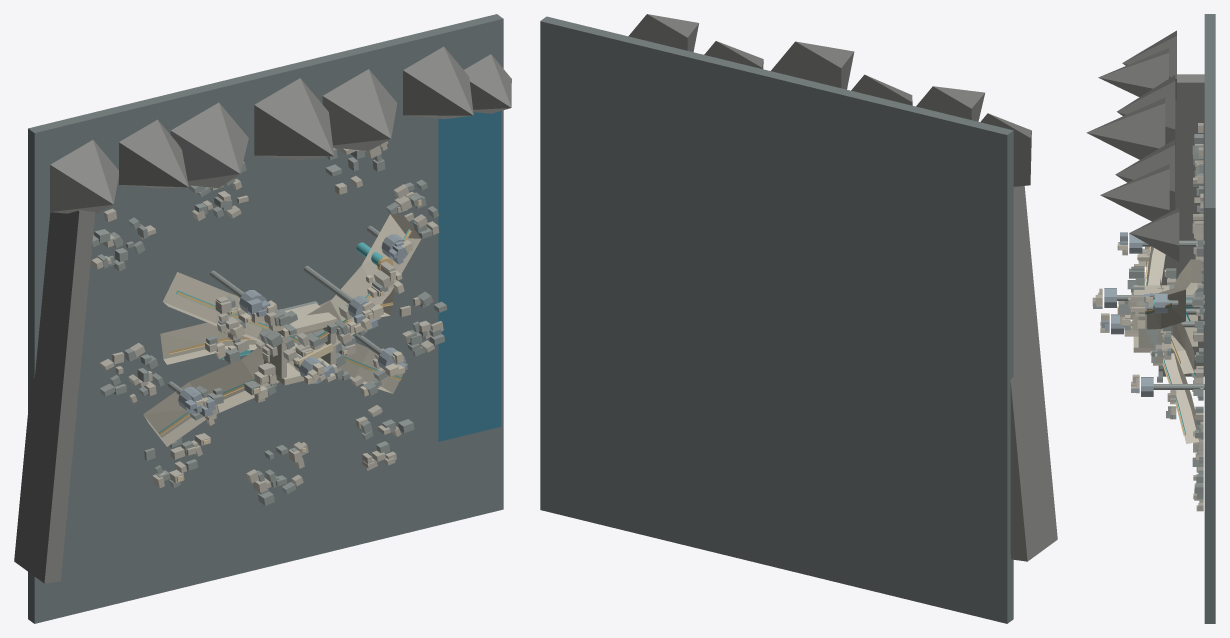
The model's file is A1-Civic-Weave.glb.
The picture shows the model from 3 angles, left to right: view 1: azimuth 30°, elevation 25°; view 2: azimuth 150°, elevation 25°; view 3: azimuth 270°, elevation 25°; orthographic projection. The views are drawn at different scales.
Visible parts, largest first — view 1: 10km_study_terrain, east_artificial_inland_sea, west_cliff_face, inhabited_hydraulic_spine_1, north_mountain_peak_4, north_mountain_peak_3, north_mountain_peak_5, north_mountain_peak_6, north_mountain_peak_1, north_mountain_peak_2, inhabited_hydraulic_spine_2, north_mountain_peak_7 (+2 smaller); view 2: 10km_study_terrain, west_cliff_face, north_mountain_peak_4, north_mountain_peak_6, north_mountain_peak_2, north_mountain_peak_1, north_mountain_peak_3, north_mountain_peak_5; view 3: 10km_study_terrain, west_cliff_face, north_mountain_peak_4, north_mountain_peak_6, inhabited_hydraulic_spine_2, north_mountain_peak_2, inhabited_hydraulic_spine_3, north_mountain_peak_7, north_mountain_peak_5, inhabited_hydraulic_spine_1, north_mountain_peak_3, north_mountain_peak_1 (+8 smaller).
Boxes of the visible parts, <box> form: 10km_study_terrain: <box>28,14,503,623</box>; east_artificial_inland_sea: <box>438,111,501,441</box>; west_cliff_face: <box>14,210,95,583</box>; inhabited_hydraulic_spine_1: <box>143,214,421,446</box>; north_mountain_peak_4: <box>254,78,333,159</box>; north_mountain_peak_3: <box>170,102,248,188</box>; north_mountain_peak_5: <box>322,69,397,150</box>; north_mountain_peak_6: <box>403,46,473,119</box>; north_mountain_peak_1: <box>50,140,118,214</box>; north_mountain_peak_2: <box>119,119,188,188</box>; inhabited_hydraulic_spine_2: <box>163,272,407,393</box>; north_mountain_peak_7: <box>464,54,511,113</box>; 10km_study_terrain: <box>540,16,1013,623</box>; west_cliff_face: <box>1010,186,1057,561</box>; north_mountain_peak_4: <box>771,41,854,89</box>; north_mountain_peak_6: <box>628,14,698,52</box>; north_mountain_peak_2: <box>916,86,984,121</box>; north_mountain_peak_1: <box>980,113,1031,186</box>; north_mountain_peak_3: <box>851,74,912,105</box>; north_mountain_peak_5: <box>704,41,763,68</box>; 10km_study_terrain: <box>1204,14,1215,623</box>; west_cliff_face: <box>1158,74,1204,376</box>; north_mountain_peak_4: <box>1086,97,1165,159</box>; north_mountain_peak_6: <box>1100,164,1169,221</box>; inhabited_hydraulic_spine_2: <box>1146,199,1199,443</box>; north_mountain_peak_2: <box>1098,48,1168,96</box>; inhabited_hydraulic_spine_3: <box>1162,259,1201,373</box>; north_mountain_peak_7: <box>1129,208,1179,261</box>; north_mountain_peak_5: <box>1115,139,1174,211</box>; inhabited_hydraulic_spine_1: <box>1132,288,1197,346</box>; north_mountain_peak_3: <box>1117,75,1175,153</box>; north_mountain_peak_1: <box>1122,30,1176,99</box>.
Bounding box in the file's own units: 10.37 × 10.27 × 2.82.
